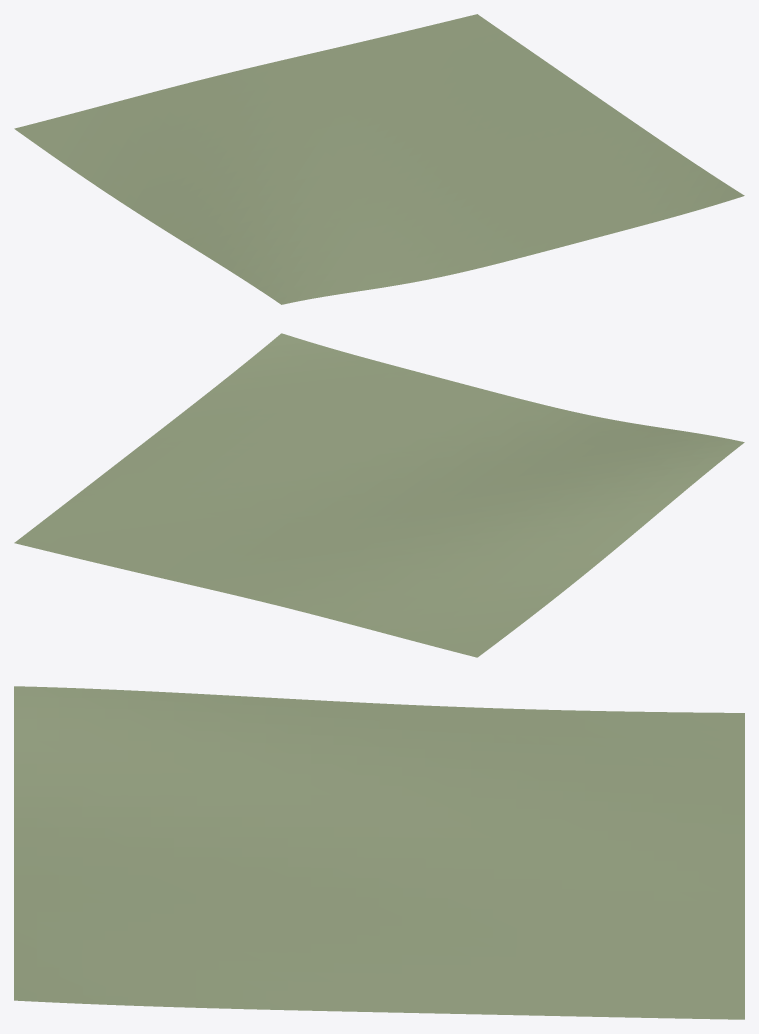
Rendered from desert-6-1.glb.
3 views of the same model, one above another, from view 1: azimuth 30°, elevation 25°; view 2: azimuth 150°, elevation 25°; view 3: azimuth 270°, elevation 25° (orthographic). The views are drawn at different scales.
Parts seen in each view (by area): view 1: desert-6-1; view 2: desert-6-1; view 3: desert-6-1.
Part boxes in pixels (bbox=[...]): desert-6-1: bbox=[14, 14, 744, 304]; desert-6-1: bbox=[14, 333, 744, 657]; desert-6-1: bbox=[14, 686, 744, 1019].
Bounding box in the file's own units: 512 × 20.74 × 512.
